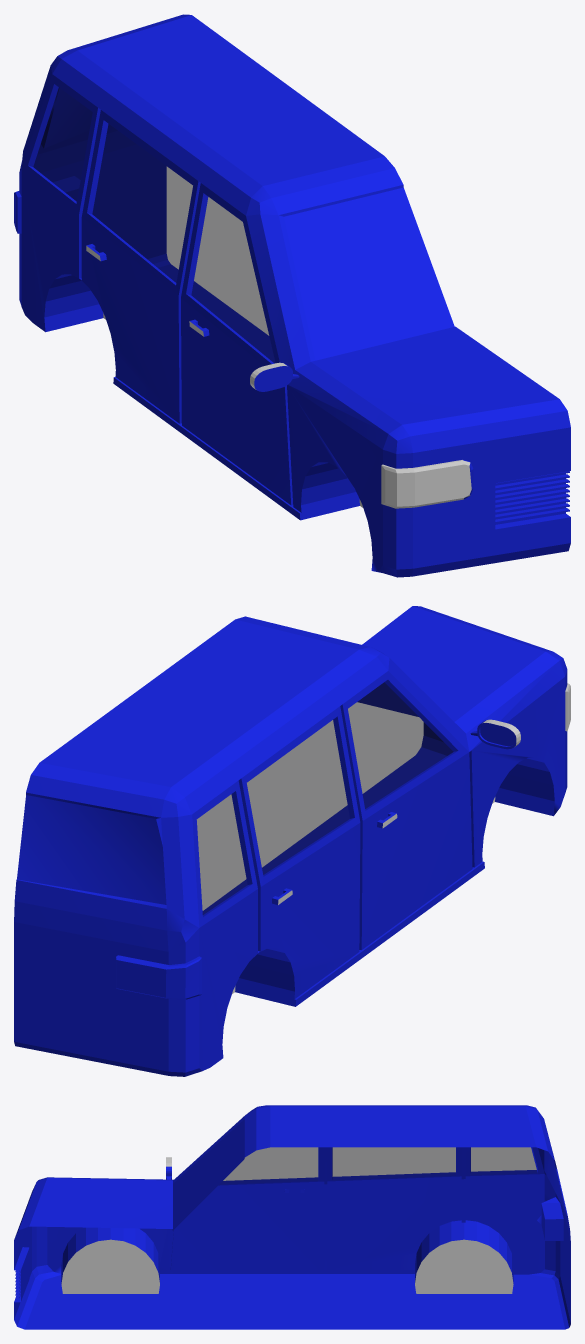
The model's file is CarosserieDefault.glb.
The picture shows the model from 3 angles, top to bottom: view 1: azimuth 30°, elevation 25°; view 2: azimuth 150°, elevation 25°; view 3: azimuth 270°, elevation 25°; orthographic projection. The views are drawn at different scales.
Parts seen in each view (by area): view 1: Car; view 2: Car; view 3: Car.
Part boxes in pixels (box(x1,y1,x2,y2)): Car: box(14, 14, 570, 577); Car: box(14, 606, 570, 1076); Car: box(14, 1105, 570, 1329).
Size of the model in its own units: 1.08 by 1.32 by 3.65.
